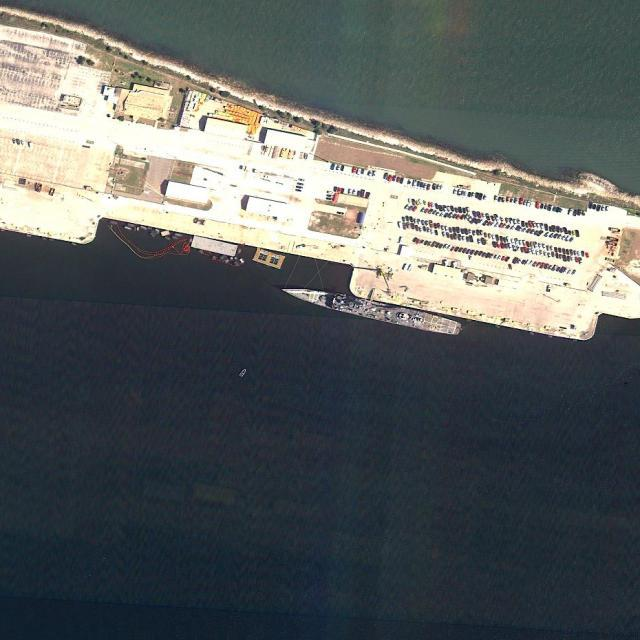Frigate: (280, 282, 462, 336)
